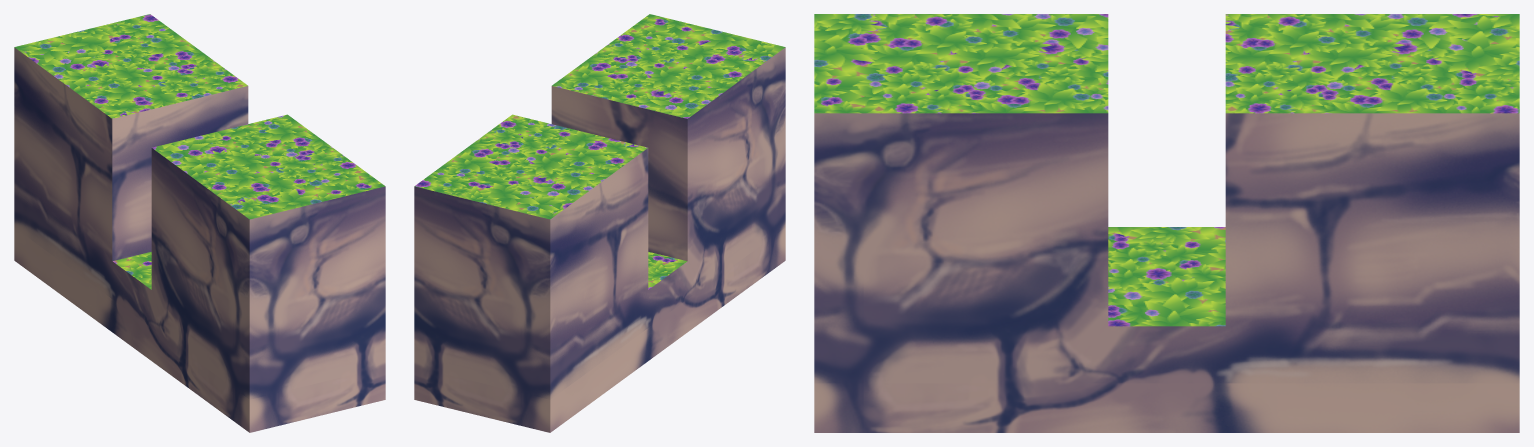
Rendered from block_11.fbx.
The picture shows the model from 3 angles, left to right: view 1: azimuth 30°, elevation 25°; view 2: azimuth 150°, elevation 25°; view 3: azimuth 270°, elevation 25°; orthographic projection. The views are drawn at different scales.
Parts seen in each view (by area): view 1: block_11.001; view 2: block_11.001; view 3: block_11.001.
Boxes of the visible parts, left/top/right/bottom form: block_11.001: left=14, top=14, right=385, bottom=432; block_11.001: left=414, top=14, right=785, bottom=432; block_11.001: left=814, top=14, right=1519, bottom=432.
Bounding box in the file's own units: 400 × 600 × 1200.
2 materials, 2 textured.
